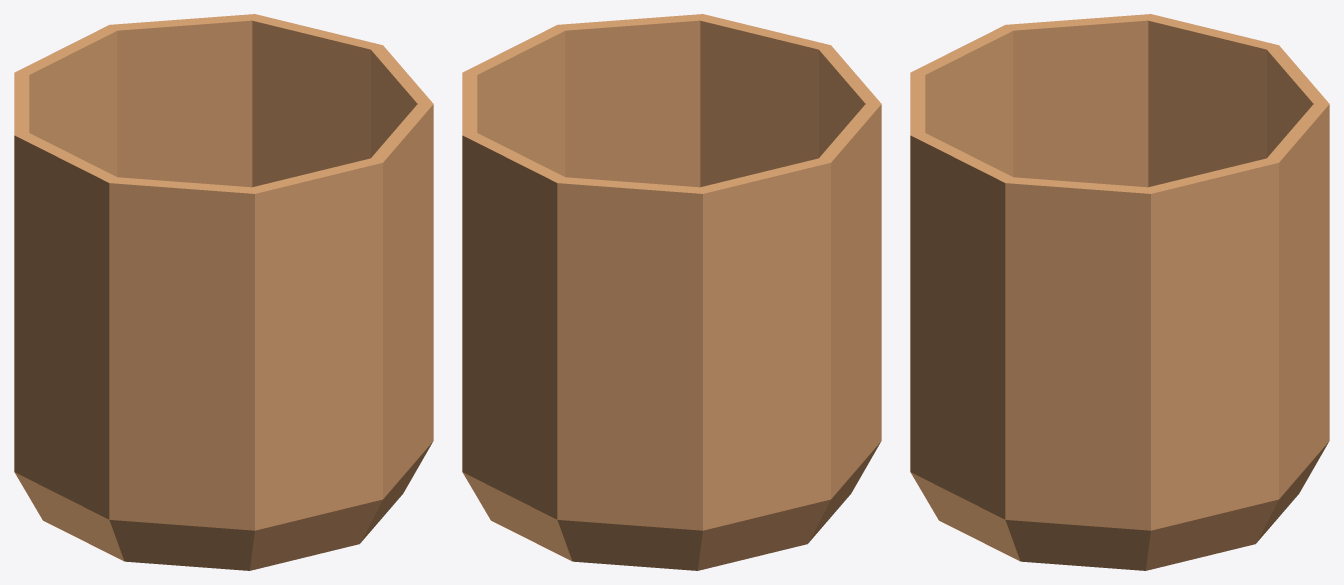
Rendered from baso.fbx.
3 renders of one model, left to right at view 1: azimuth 30°, elevation 25°; view 2: azimuth 150°, elevation 25°; view 3: azimuth 270°, elevation 25°, orthographic.
Parts seen in each view (by area): view 1: Cylinder; view 2: Cylinder; view 3: Cylinder.
Part boxes in pixels (left/top/right/bottom): Cylinder: left=14, top=14, right=433, bottom=570; Cylinder: left=462, top=14, right=881, bottom=570; Cylinder: left=910, top=14, right=1329, bottom=570.
Size of the model in its own units: 44.09 by 44.52 by 43.42.
